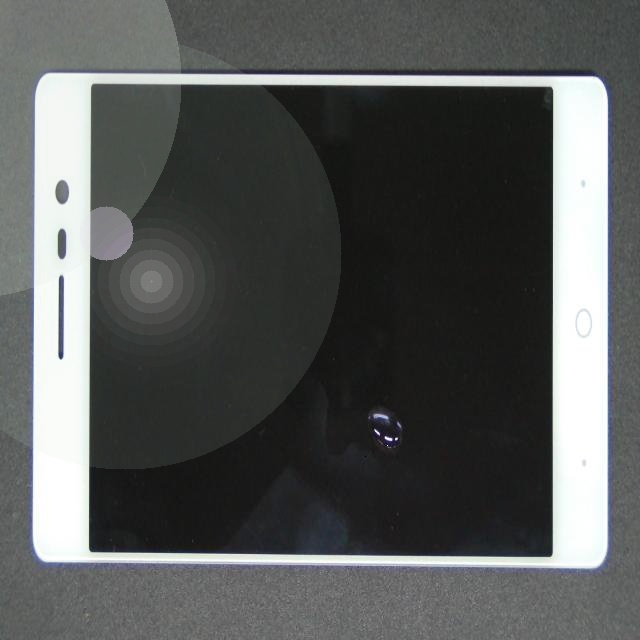oil: (201, 199, 561, 608)
